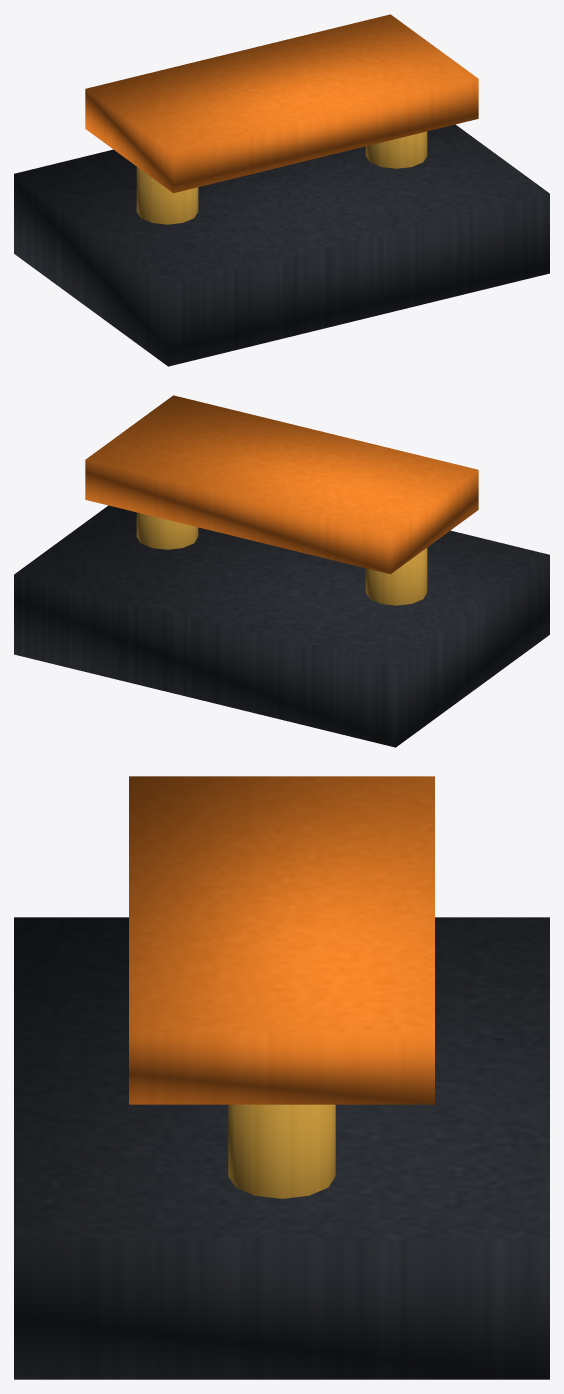
The picture shows the model from 3 angles, top to bottom: view 1: azimuth 30°, elevation 25°; view 2: azimuth 150°, elevation 25°; view 3: azimuth 270°, elevation 25°; orthographic projection. The views are drawn at different scales.
Visible parts, largest first — view 1: 185_L115_W273_Connector_Black, 185_L115_W273_Status_Amber, 185_L115_W273_Connector_Gold; view 2: 185_L115_W273_Connector_Black, 185_L115_W273_Status_Amber, 185_L115_W273_Connector_Gold; view 3: 185_L115_W273_Connector_Black, 185_L115_W273_Status_Amber, 185_L115_W273_Connector_Gold.
Part boxes in pixels (x1,y1,x2,y2): 185_L115_W273_Connector_Black: (14,124,549,366); 185_L115_W273_Status_Amber: (85,14,478,193); 185_L115_W273_Connector_Gold: (136,131,427,224); 185_L115_W273_Connector_Black: (14,505,549,747); 185_L115_W273_Status_Amber: (85,395,478,574); 185_L115_W273_Connector_Gold: (136,512,427,605); 185_L115_W273_Connector_Black: (14,917,549,1379); 185_L115_W273_Status_Amber: (129,776,434,1104); 185_L115_W273_Connector_Gold: (228,1104,335,1198).
Size of the model in its own units: 0.01 by 0.0045 by 0.007.
Materials: 3 (3 with a texture image).
